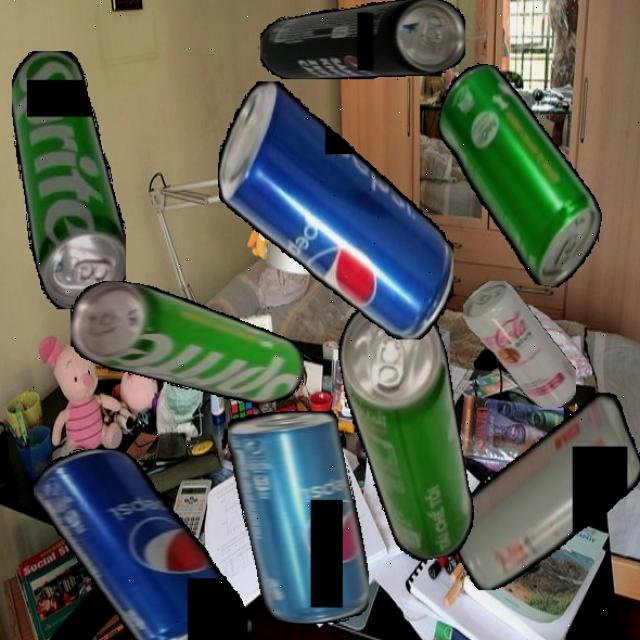debris: (217, 80, 453, 340), (413, 58, 625, 293), (34, 448, 252, 640), (331, 290, 480, 568), (452, 392, 640, 590), (227, 411, 369, 624), (11, 50, 126, 309), (70, 280, 304, 402), (260, 0, 466, 79), (462, 281, 576, 408)
